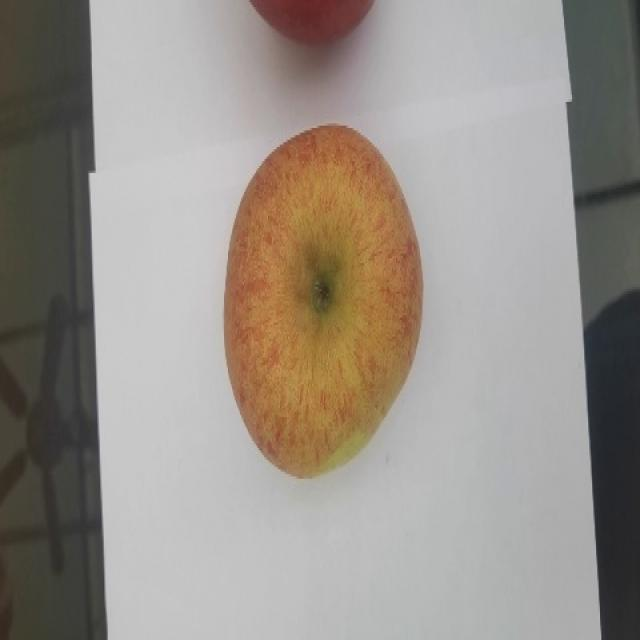Apple: (222, 122, 423, 479), (247, 0, 376, 45)
